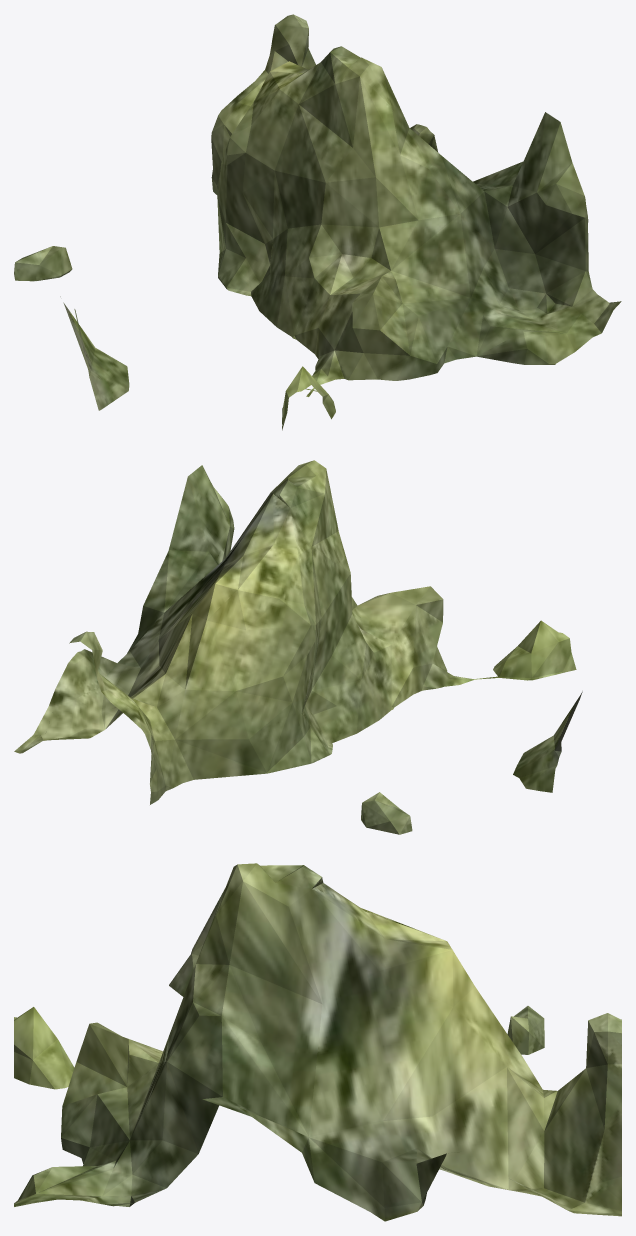
3 renders of one model, top to bottom at view 1: azimuth 30°, elevation 25°; view 2: azimuth 150°, elevation 25°; view 3: azimuth 270°, elevation 25°, orthographic. The views are drawn at different scales.
Bounding box in the file's own units: 2.95 × 1.56 × 2.95.
3 materials, 3 textured.
